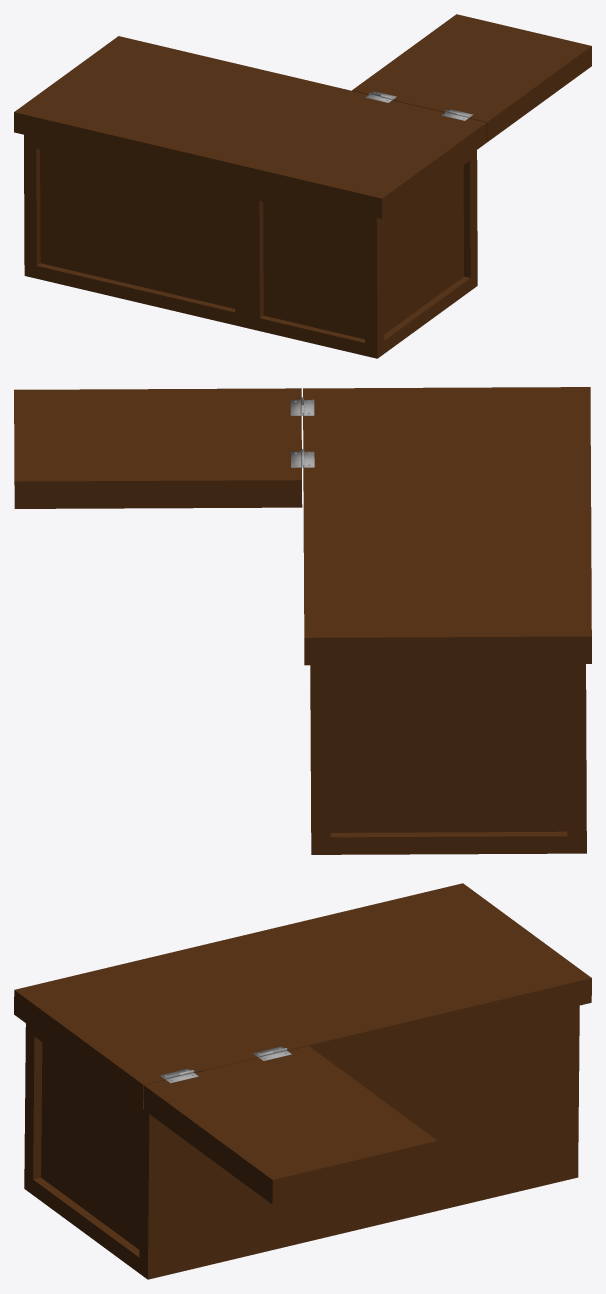
File: counter.glb
3 renders of one model, top to bottom at view 1: azimuth 30°, elevation 25°; view 2: azimuth 150°, elevation 25°; view 3: azimuth 270°, elevation 25°, orthographic. The views are drawn at different scales.
Visible parts, largest first — view 1: Object_4, Object_5; view 2: Object_4, Object_5; view 3: Object_4, Object_5.
Boxes of the visible parts, x1,y1,x2,y2 form: Object_4: [14, 14, 591, 358]; Object_5: [365, 91, 473, 120]; Object_4: [14, 387, 591, 854]; Object_5: [290, 397, 314, 467]; Object_4: [14, 883, 591, 1279]; Object_5: [160, 1046, 291, 1083].
Bounding box in the file's own units: 5.5 × 1.77 × 4.5.
